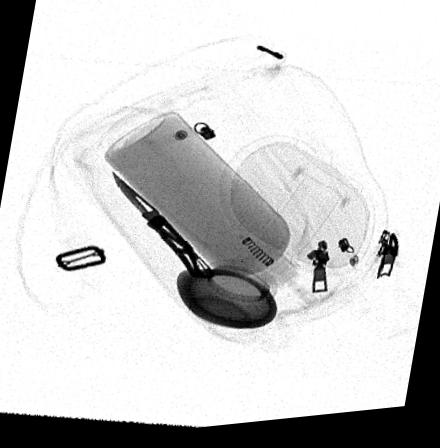Knife: (110, 171, 215, 284)
